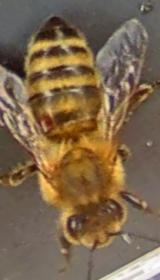varroa_mite: (30, 104, 61, 140)
